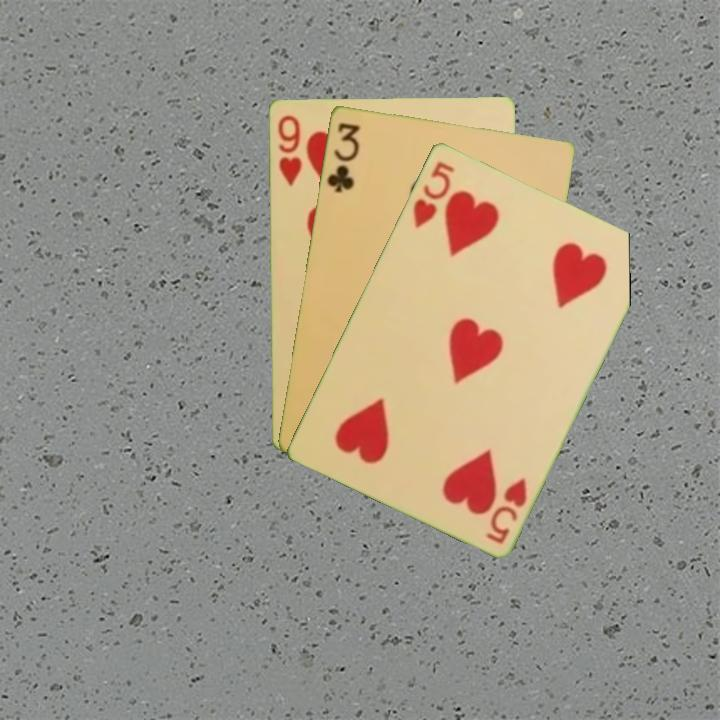3c: (323, 119, 363, 195)
5h: (409, 157, 458, 231), (481, 473, 530, 546)
9h: (274, 111, 305, 189)
